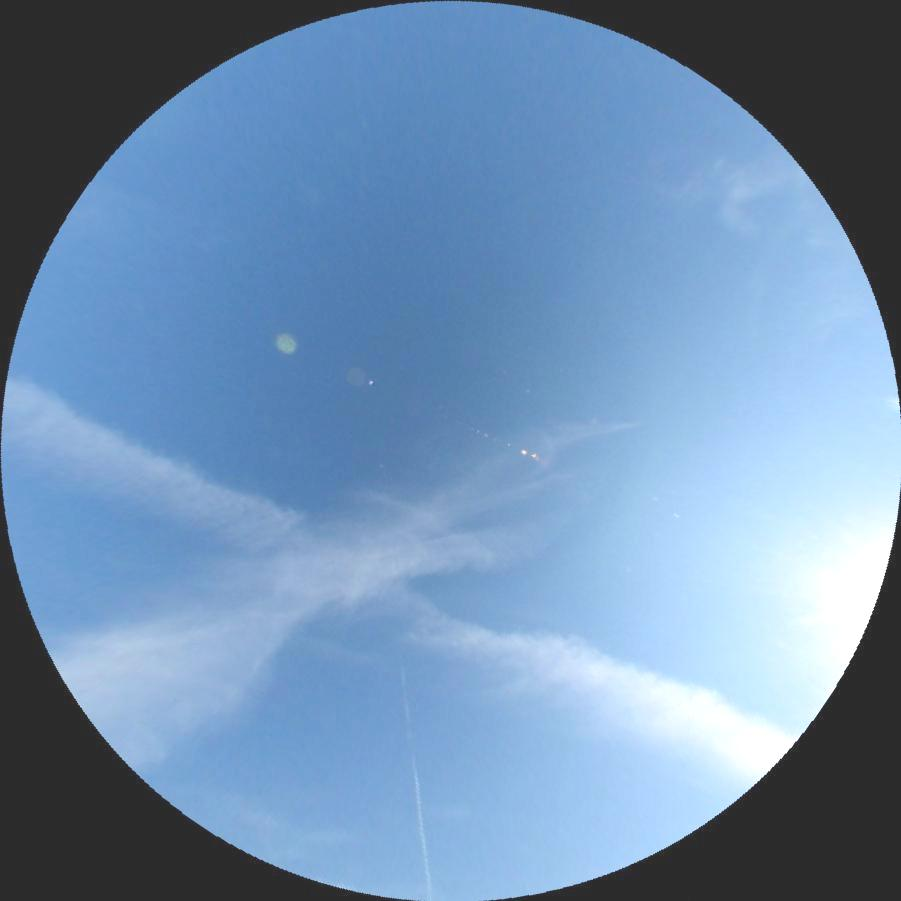contrail veryold: (0, 374, 797, 794)
contrail young: (396, 650, 433, 900)
